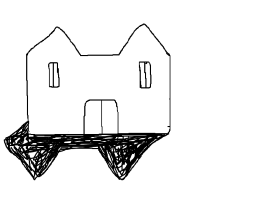closed_window: (42, 56, 65, 93), (136, 55, 154, 92)
door: (80, 95, 123, 139)
shadow: (0, 116, 182, 181)
single_line_roof: (23, 21, 175, 61)
wall: (21, 51, 176, 140)
